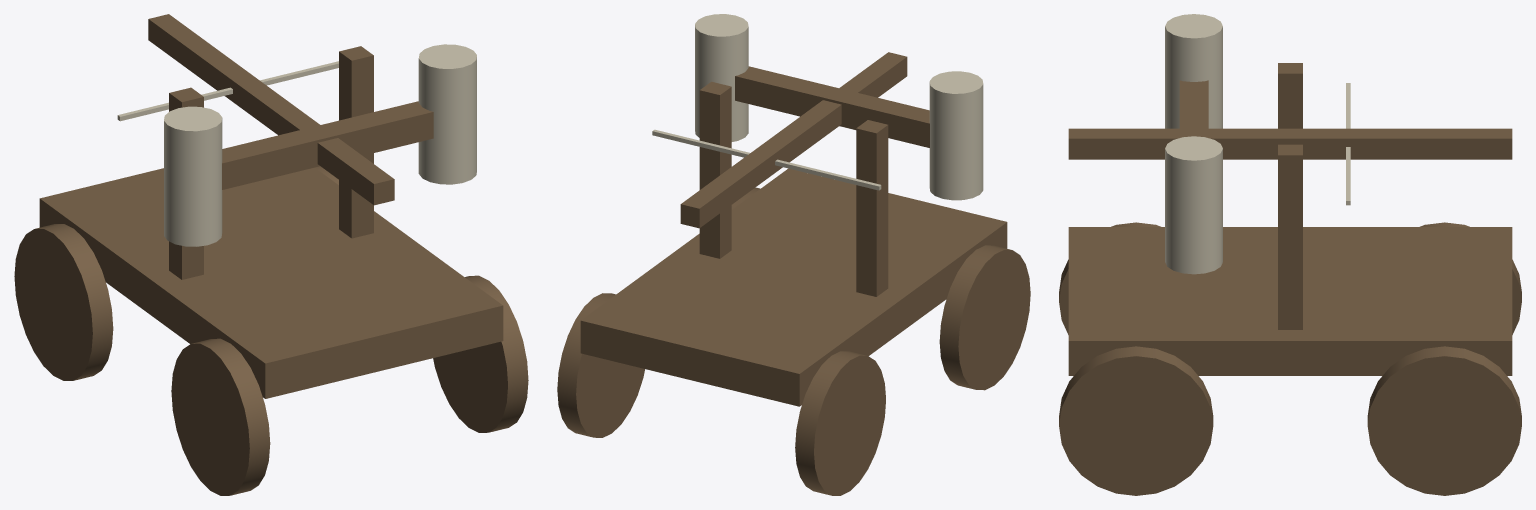
The model's file is ballista.glb.
3 renders of one model, left to right at view 1: azimuth 30°, elevation 25°; view 2: azimuth 150°, elevation 25°; view 3: azimuth 270°, elevation 25°, orthographic. The views are drawn at different scales.
Parts seen in each view (by area): view 1: Vehicle, beam; view 2: Vehicle, beam; view 3: Vehicle, beam.
Part boxes in pixels (left/top/right/bottom): Vehicle: left=14, top=46, right=528, bottom=495; beam: left=117, top=14, right=476, bottom=246; Vehicle: left=557, top=81, right=1030, bottom=495; beam: left=652, top=14, right=983, bottom=228; Vehicle: left=1059, top=63, right=1521, bottom=495; beam: left=1068, top=14, right=1512, bottom=274.
Size of the model in its own units: 1.8 by 1.95 by 2.4.
